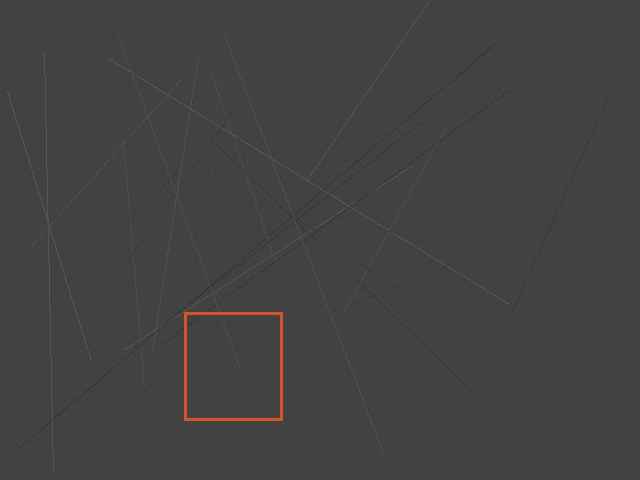D20: (184, 312, 282, 420)
